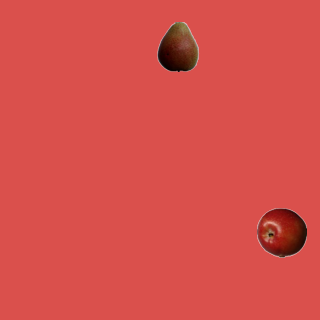Apple Braeburn: (256, 207, 306, 257)
Pear Forelle: (152, 21, 202, 71)
